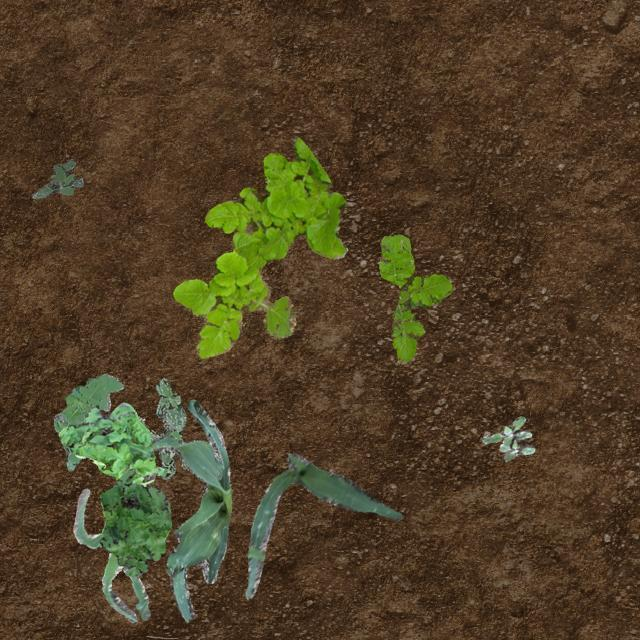crop: (244, 452, 400, 598), (150, 398, 230, 620), (73, 488, 148, 622)
weed: (172, 136, 346, 358), (378, 234, 452, 362), (58, 402, 170, 486), (98, 468, 170, 576), (52, 372, 122, 470), (137, 376, 186, 478), (482, 414, 534, 460), (30, 158, 81, 198)
